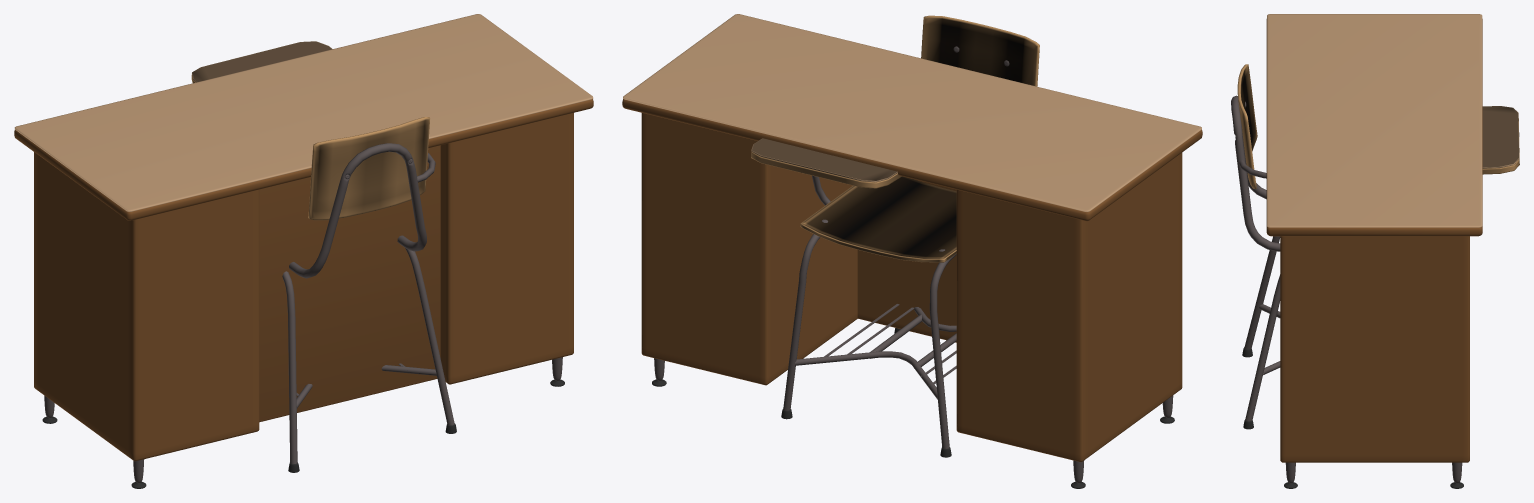
The model's file is desks.fbx.
The picture shows the model from 3 angles, left to right: view 1: azimuth 30°, elevation 25°; view 2: azimuth 150°, elevation 25°; view 3: azimuth 270°, elevation 25°; orthographic projection. The views are drawn at different scales.
Visible parts, largest first — view 1: ChamferBox01, ChamferBox01.001, Box280.002, Cylinder813.003, Cylinder813.001, Plane.003; view 2: ChamferBox01, ChamferBox01.001, Box297.002, Box280.002, Cylinder813.003, Plane.003, Plane.004; view 3: ChamferBox01.001, ChamferBox01, Plane.003, Cylinder813.003, Cylinder813.001, Box280.002.
Boxes of the visible parts, left/top/right/bottom form: ChamferBox01: left=14, top=99, right=593, bottom=461; ChamferBox01.001: left=14, top=14, right=593, bottom=211; Box280.002: left=308, top=117, right=430, bottom=220; Cylinder813.003: left=282, top=248, right=454, bottom=463; Cylinder813.001: left=289, top=143, right=426, bottom=278; Plane.003: left=192, top=41, right=332, bottom=82; ChamferBox01: left=622, top=99, right=1202, bottom=461; ChamferBox01.001: left=623, top=14, right=1201, bottom=212; Box297.002: left=800, top=176, right=956, bottom=262; Box280.002: left=921, top=15, right=1039, bottom=86; Cylinder813.003: left=783, top=234, right=956, bottom=448; Plane.003: left=751, top=138, right=897, bottom=182; Plane.004: left=751, top=152, right=901, bottom=188; ChamferBox01.001: left=1267, top=14, right=1482, bottom=227; ChamferBox01: left=1266, top=19, right=1482, bottom=462; Plane.003: left=1482, top=106, right=1519, bottom=168; Cylinder813.003: left=1244, top=236, right=1280, bottom=421; Cylinder813.001: left=1231, top=95, right=1280, bottom=251; Box280.002: left=1237, top=64, right=1257, bottom=188.
Size of the model in its own units: 138 by 91.32 by 78.92.
